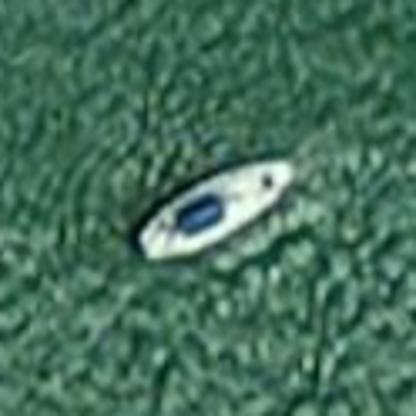ship: (130, 145, 301, 273)
